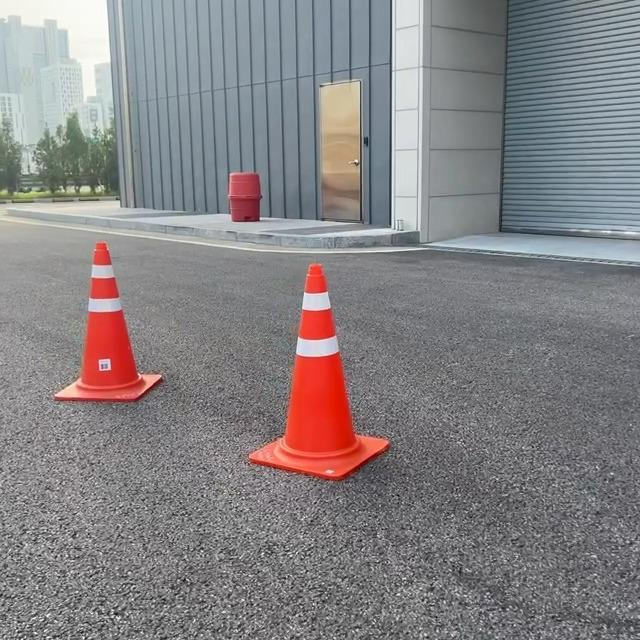fallen_object: (43, 216, 244, 473), (256, 245, 387, 494)
